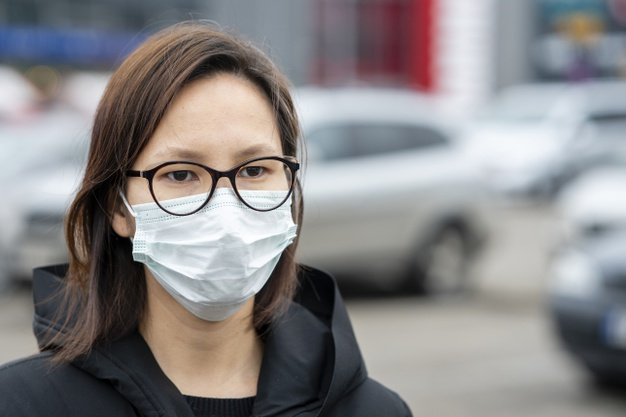surgical: (123, 186, 304, 315)
